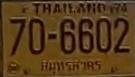0: (28, 18, 44, 54), (96, 17, 110, 52)
2: (113, 17, 128, 52)
6: (59, 18, 75, 53), (78, 18, 93, 53)
7: (9, 18, 25, 55)
SKN: (39, 58, 103, 75)
